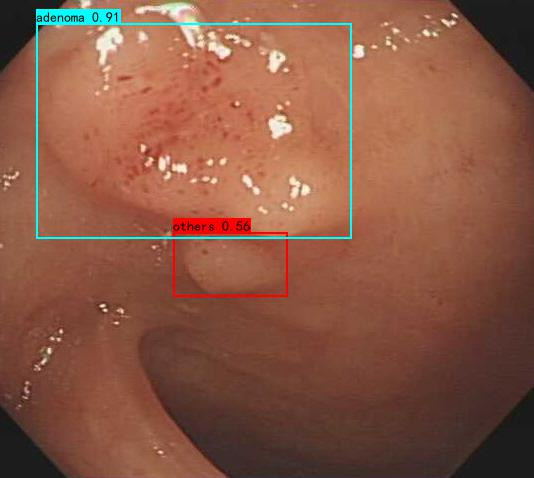adenoma: (44, 5, 339, 237)
